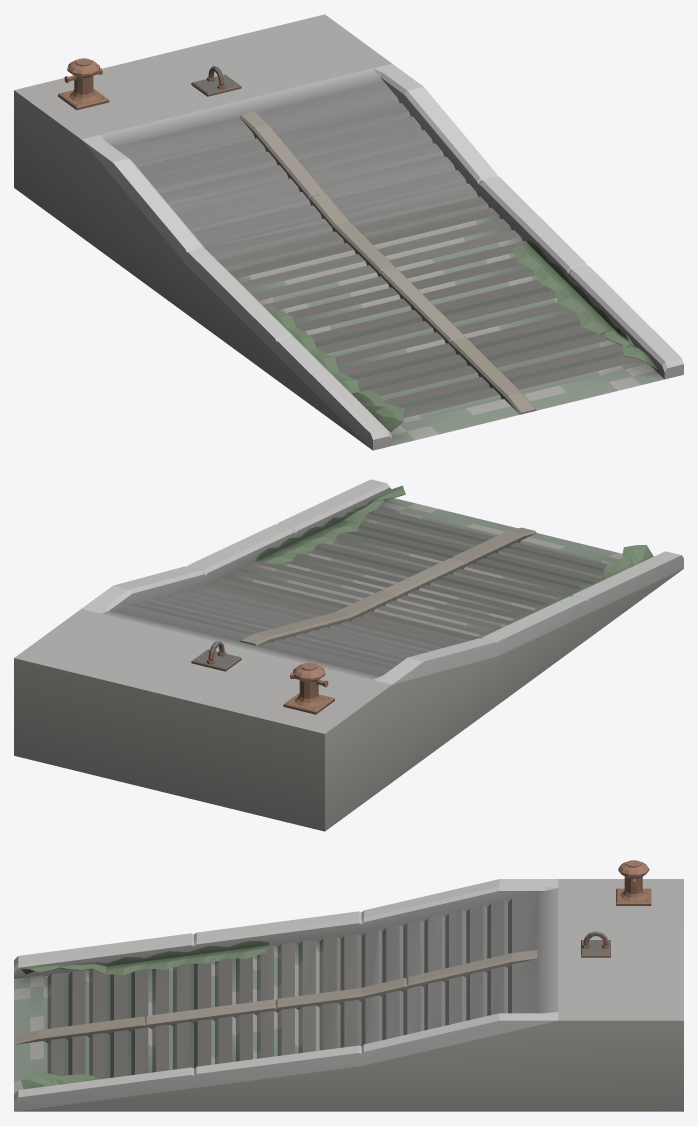
File: slipway.glb
The picture shows the model from 3 angles, top to bottom: view 1: azimuth 30°, elevation 25°; view 2: azimuth 150°, elevation 25°; view 3: azimuth 270°, elevation 25°; orthographic projection. The views are drawn at different scales.
Visible parts, largest first — view 1: slipway; view 2: slipway; view 3: slipway.
Boxes of the visible parts, bbox=[...] form: slipway: bbox=[14, 14, 683, 450]; slipway: bbox=[14, 479, 683, 831]; slipway: bbox=[14, 860, 683, 1111].
Size of the model in its own units: 4 by 1.66 by 8.
